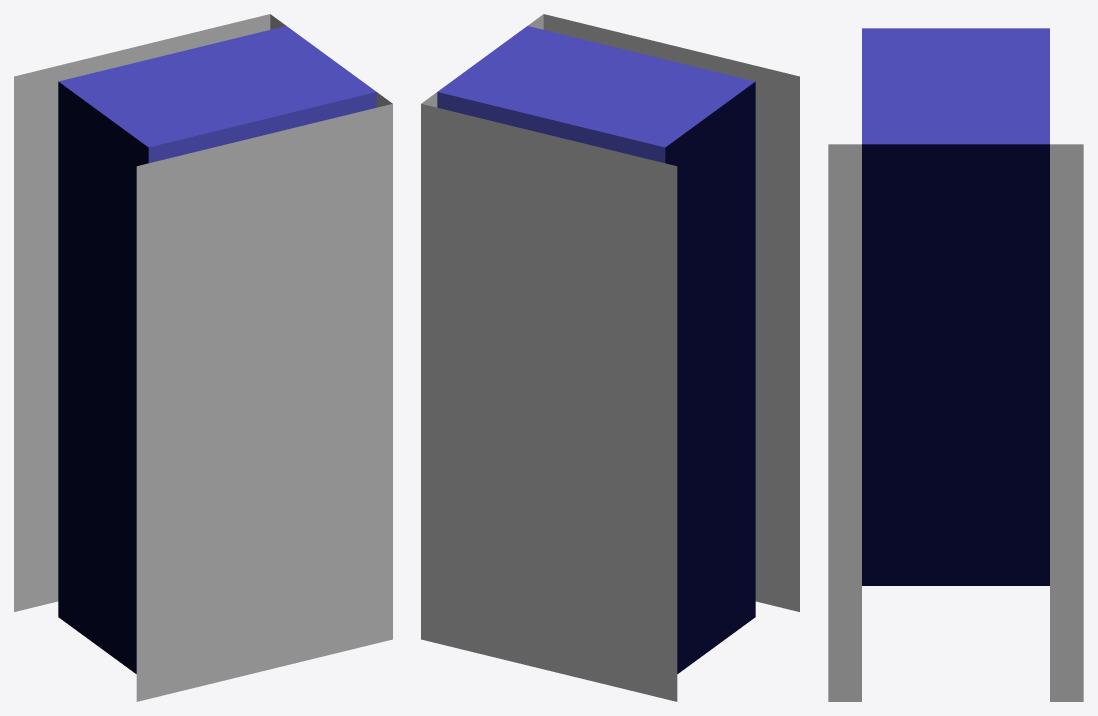
File: x_ZAMOK_minivorota_part3_enter1_rmstrd.fbx
3 renders of one model, left to right at view 1: azimuth 30°, elevation 25°; view 2: azimuth 150°, elevation 25°; view 3: azimuth 270°, elevation 25°, orthographic. The views are drawn at different scales.
Visible parts, largest first — view 1: x_ZAMOK_minivorota_part3_enter1_rmstrd1; view 2: x_ZAMOK_minivorota_part3_enter1_rmstrd1; view 3: x_ZAMOK_minivorota_part3_enter1_rmstrd1.
Part boxes in pixels (x1,y1,x2,y2): x_ZAMOK_minivorota_part3_enter1_rmstrd1: [14, 14, 392, 701]; x_ZAMOK_minivorota_part3_enter1_rmstrd1: [421, 14, 799, 701]; x_ZAMOK_minivorota_part3_enter1_rmstrd1: [828, 28, 1083, 701].
Bounding box in the file's own units: 2.46 × 4.92 × 2.04.
